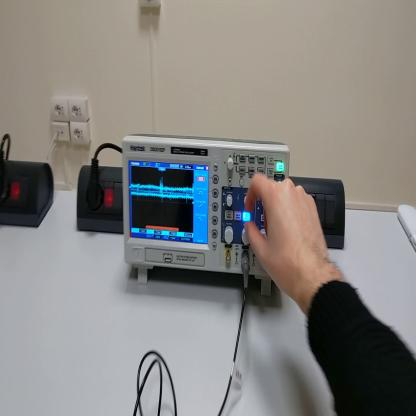hand: (245, 170, 329, 298)
oscilloscope: (121, 133, 290, 299)
socket: (2, 156, 55, 229), (76, 165, 125, 236)
